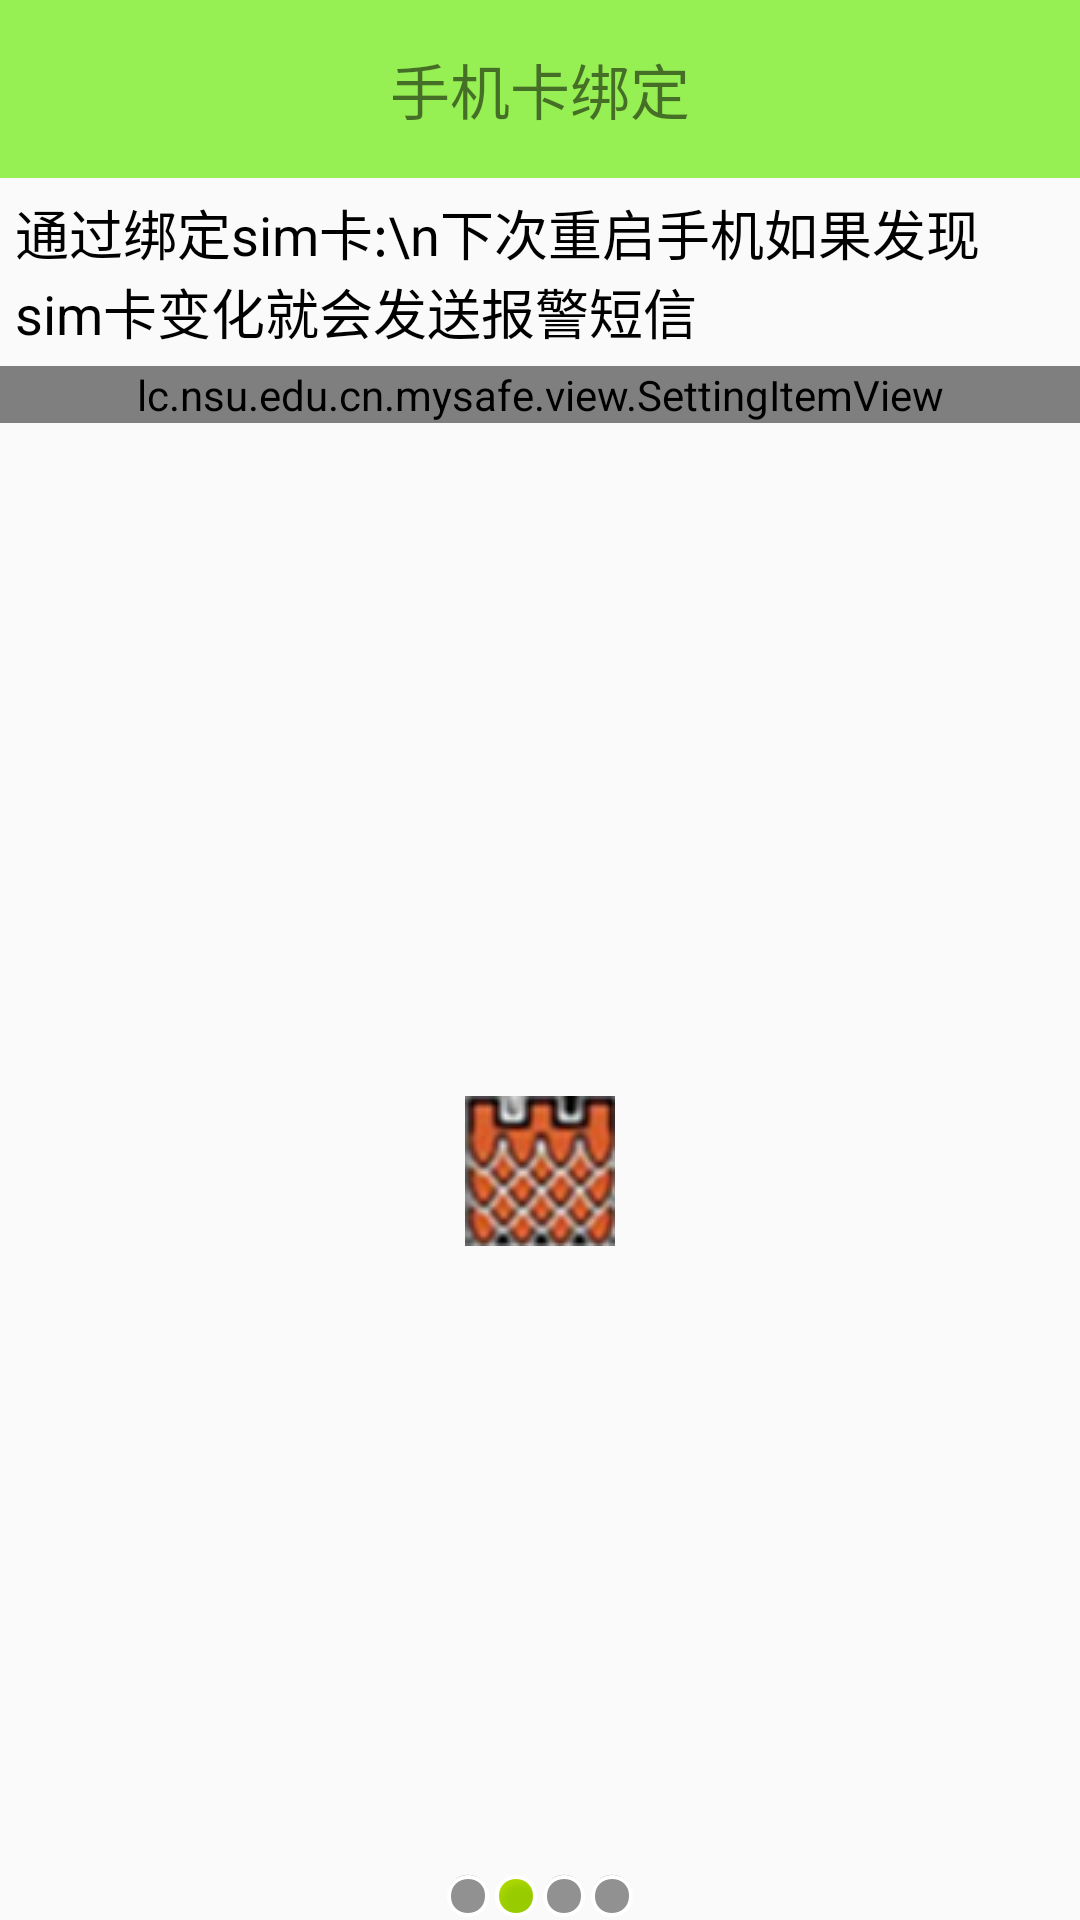

Locate icon controls on the screen. Image size 1080 x 1920, boxes as [x1=x1, y1=y1, x2=x2, y2=y2].
presence invisible: [x1=451, y1=1875, x2=485, y2=1913], [x1=547, y1=1875, x2=581, y2=1913], [x1=595, y1=1875, x2=629, y2=1913]
presence online: [x1=499, y1=1879, x2=533, y2=1913]
